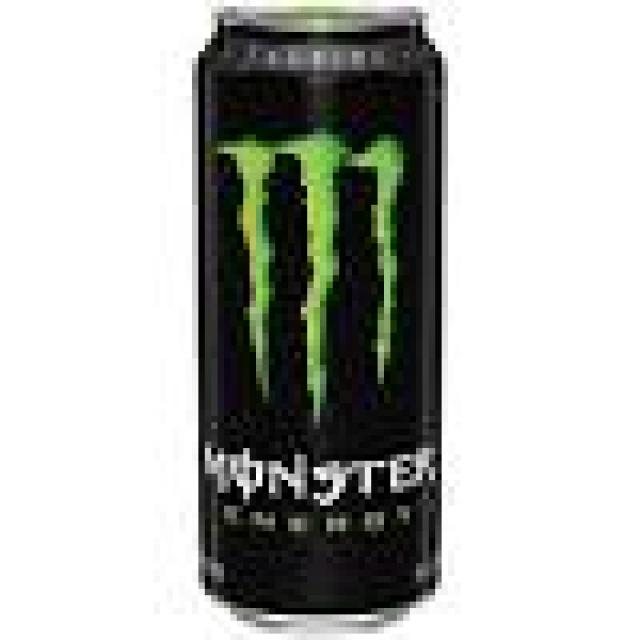Cans: (185, 2, 496, 640)
